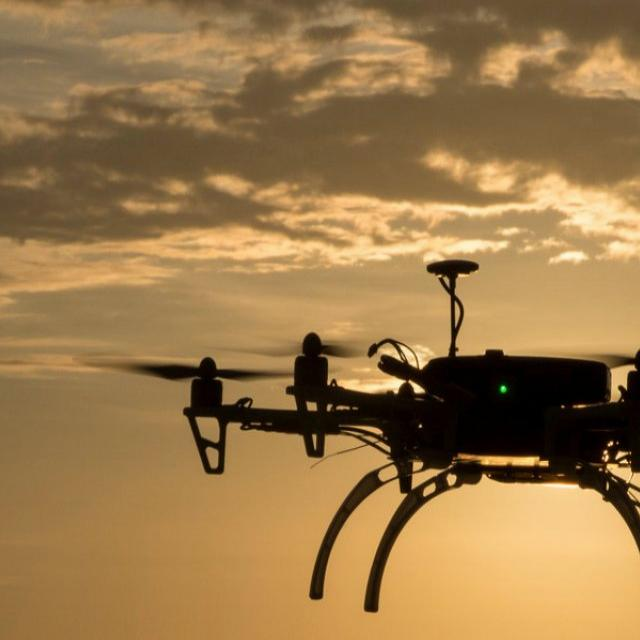drone: (107, 286, 640, 608)
